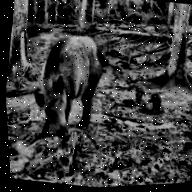boar: (16, 16, 128, 144), (56, 120, 93, 178), (126, 85, 151, 113), (145, 88, 167, 119)
